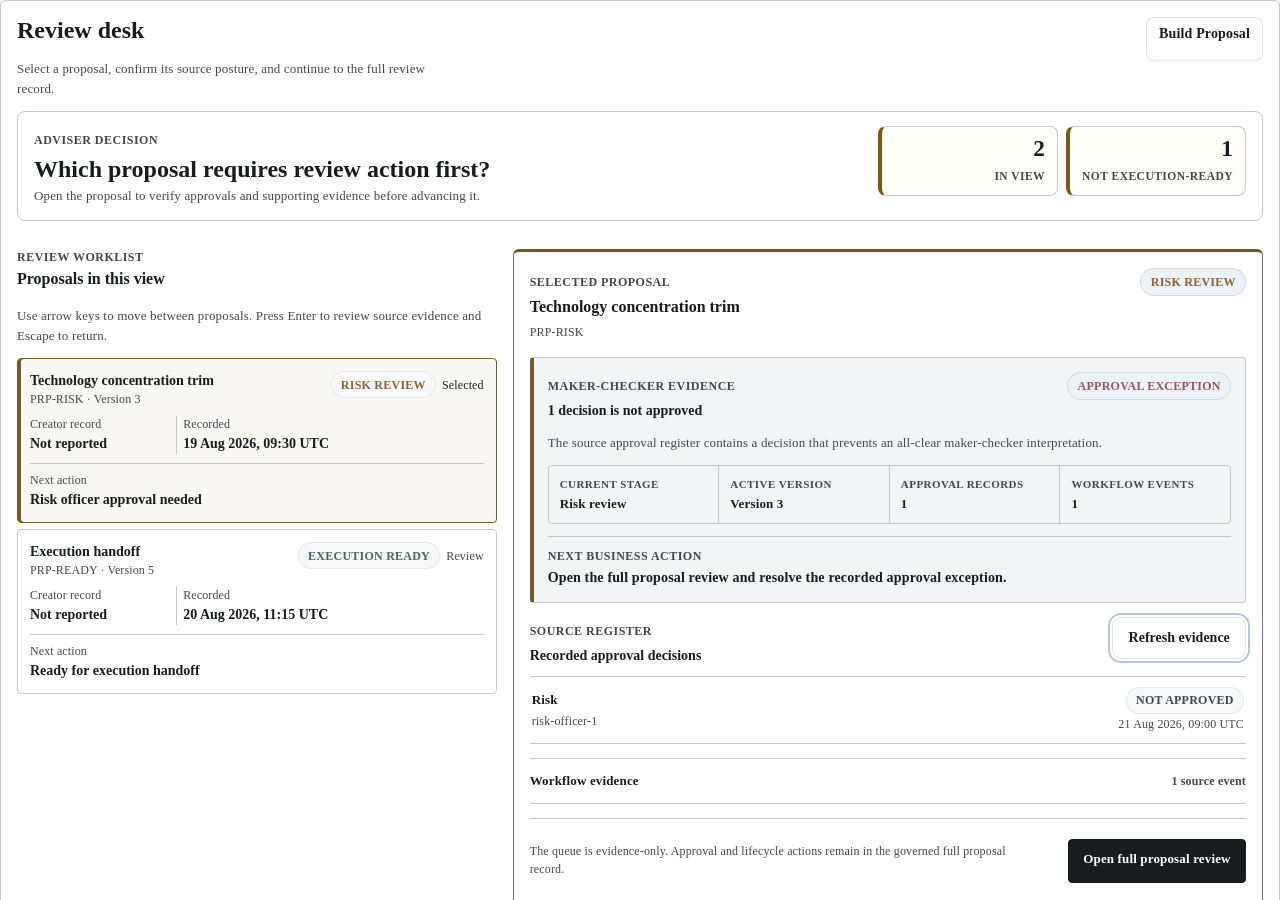
Test: ProposalLifecycleWorkspace › keeps confirmed evidence visible and restores focus after refresh failure
Expected: the heading "1 decision is not approved" is shown, top-left (548, 403), bottom-right (702, 418)
Click the button "Refresh evidence". click: (1179, 638)
box: top-left (1112, 617), bottom-right (1246, 659)
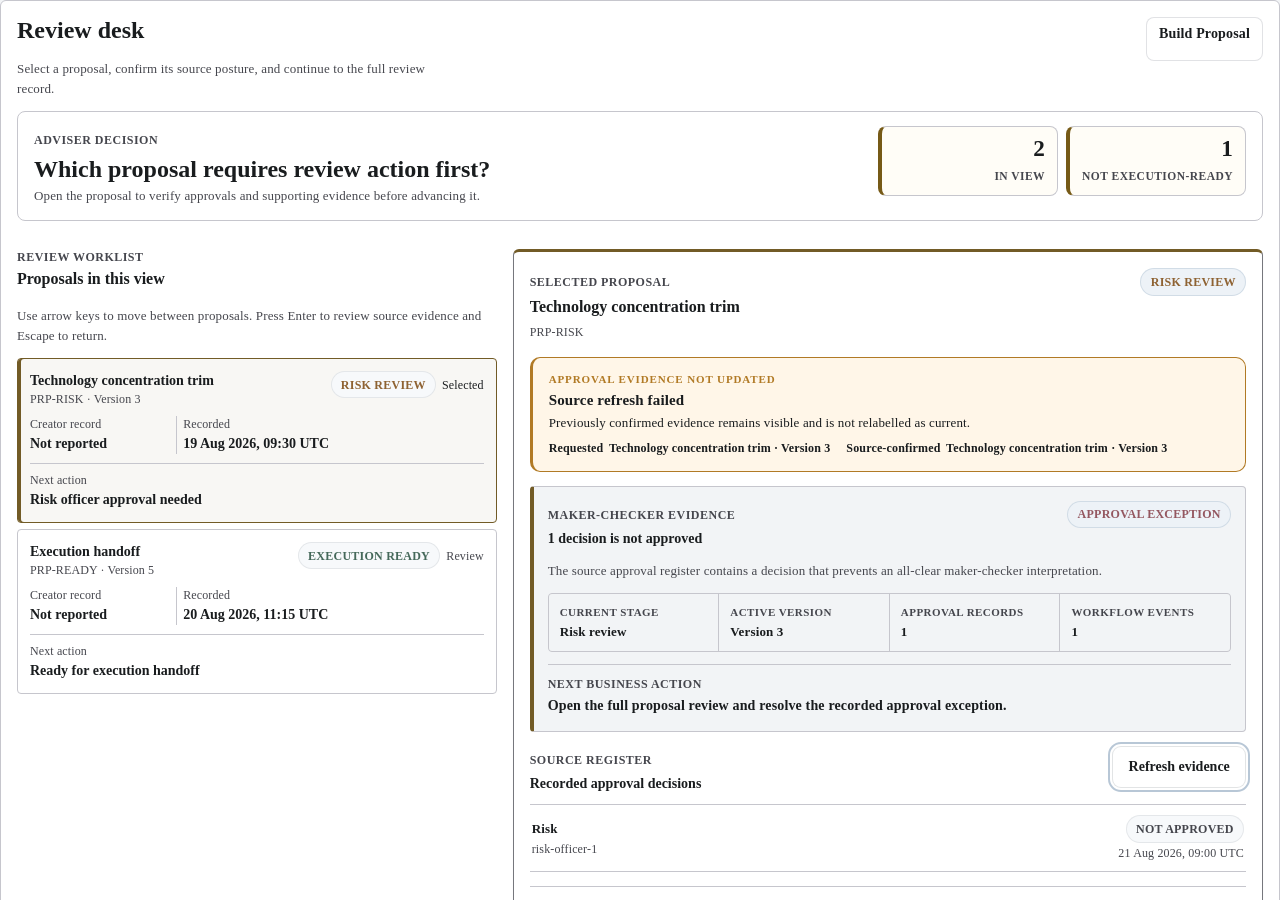
Expected: the heading "1 decision is not approved" is shown, top-left (548, 531), bottom-right (702, 546)
Result: the text "Source refresh failed" is shown at top-left (549, 392), bottom-right (684, 408)
